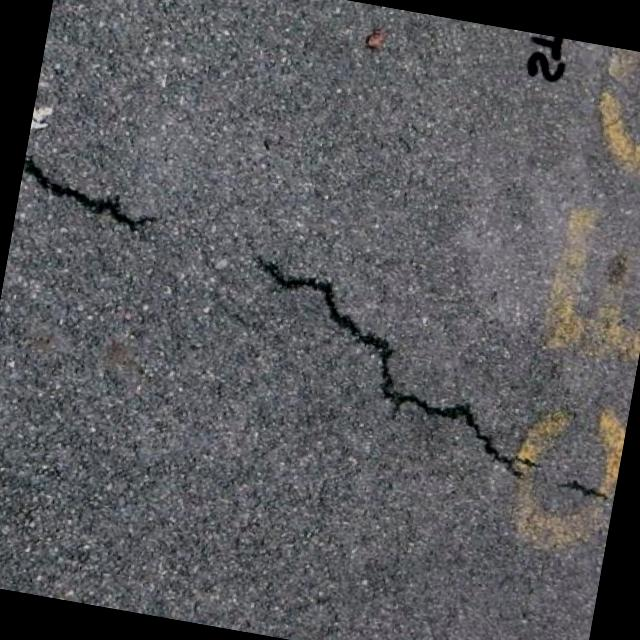crack: (220, 255, 571, 482), (16, 152, 160, 235), (558, 473, 608, 502)
